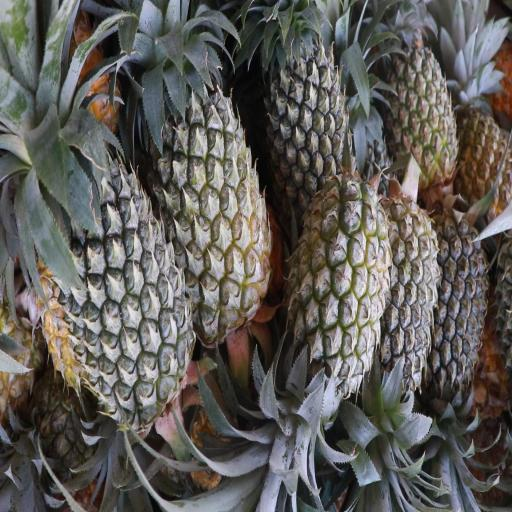------------------------------: (150, 77, 273, 325), (289, 180, 386, 399), (386, 34, 456, 190)
